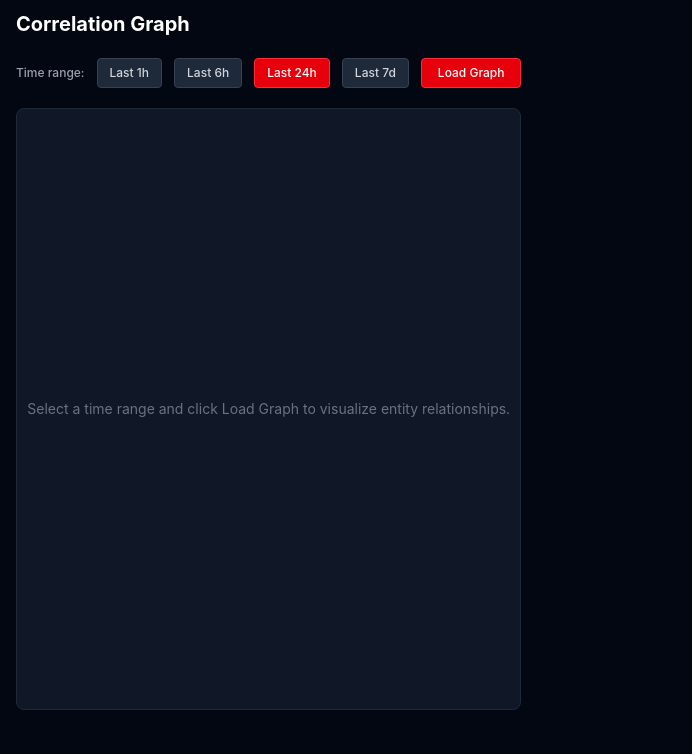
Scenario: CorrelationPage › FR #13 — search input › shows the search input after a load with data
Step 1. Click the button "Load Graph" → (471, 73), box [421,58,522,88]
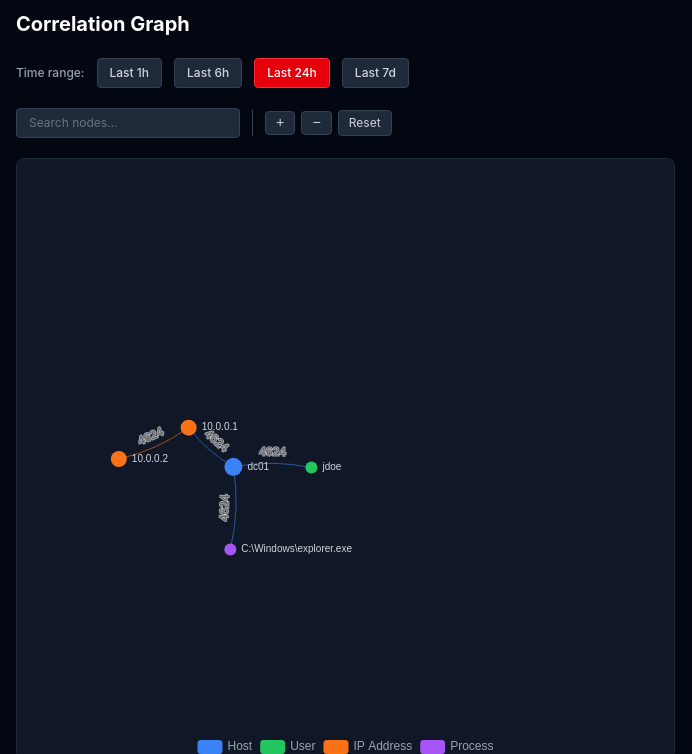
Result: the search field named "search graph nodes" is shown at [16,108,240,138]
